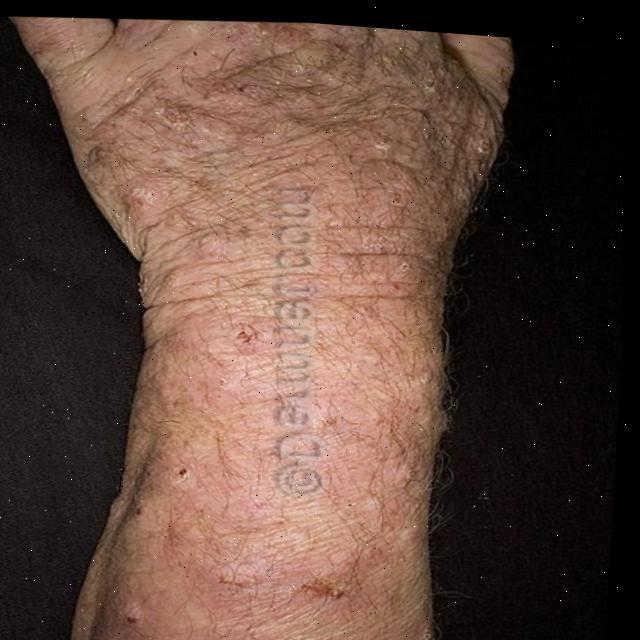Eczema: (76, 82, 524, 640)
